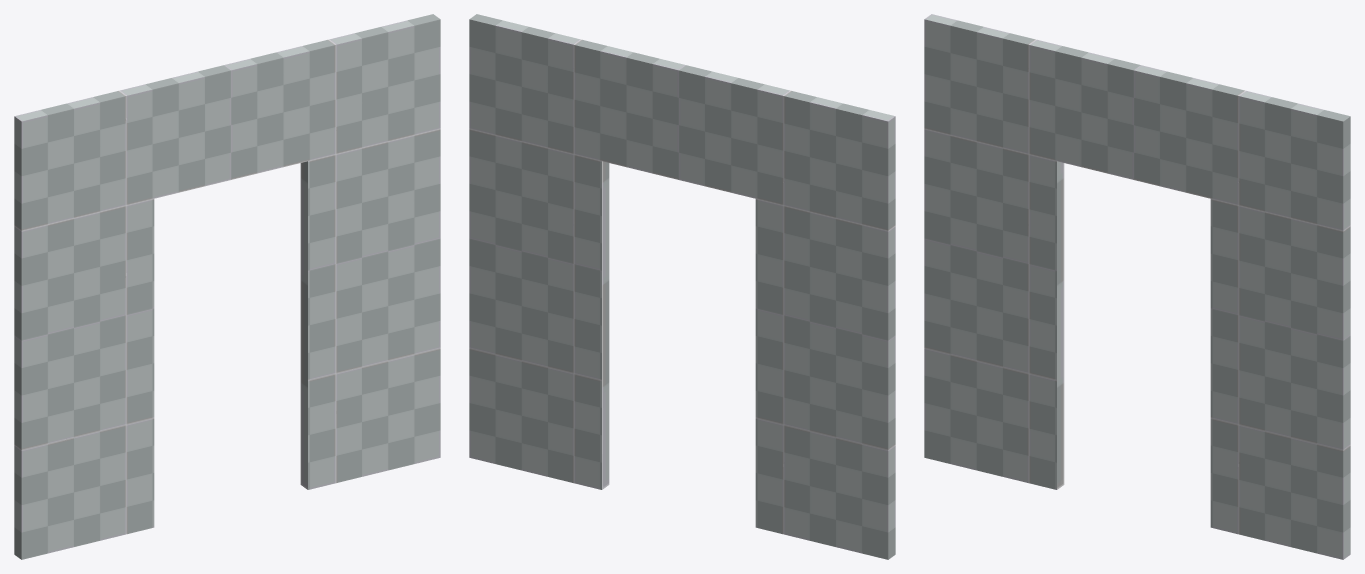
Rendered from PUN Default Modular Building Doorway.glb.
The picture shows the model from 3 angles, left to right: view 1: azimuth 30°, elevation 25°; view 2: azimuth 150°, elevation 25°; view 3: azimuth 330°, elevation 25°; orthographic projection.
Parts seen in each view (by area): view 1: Doorway; view 2: Doorway; view 3: Doorway.
Boxes of the visible parts, x1,y1,x2,y2 form: Doorway: (14, 14, 440, 559); Doorway: (469, 14, 895, 559); Doorway: (924, 14, 1350, 559).
Size of the model in its own units: 2.5 by 2.5 by 0.075.
1 material, 1 textured.
